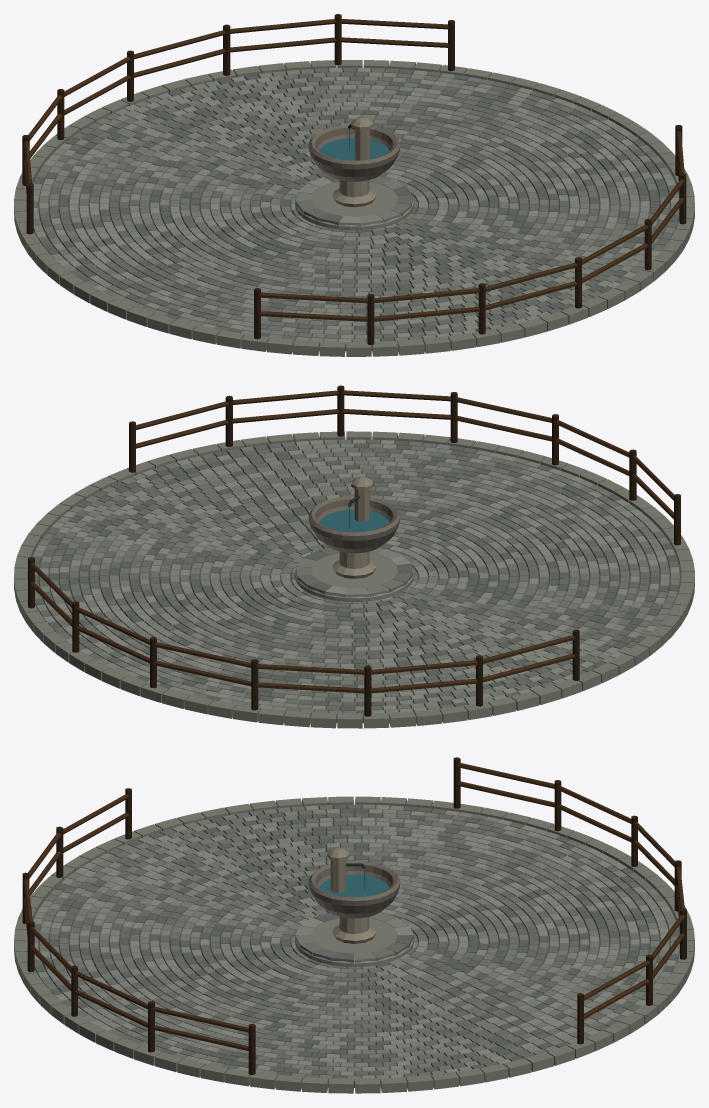
The model's file is Piazzetta_Circolare_Fontana_Alpina.obj.
The picture shows the model from 3 angles, top to bottom: view 1: azimuth 30°, elevation 25°; view 2: azimuth 150°, elevation 25°; view 3: azimuth 270°, elevation 25°; orthographic projection.
Parts seen in each view (by area): view 1: Pavimento_Ciottoli, Cordolo_Circolare, Staccionata_2, Staccionata_1, Base_Piazza, Fontana_Vasca, Fontana_Pedana, Fontana_Anello_Pedana, Fontana_Piedistallo, Fontana_Acqua, Fontana_Colonnina; view 2: Pavimento_Ciottoli, Cordolo_Circolare, Staccionata_2, Staccionata_1, Base_Piazza, Fontana_Vasca, Fontana_Pedana, Fontana_Anello_Pedana, Fontana_Acqua, Fontana_Piedistallo, Fontana_Colonnina; view 3: Pavimento_Ciottoli, Cordolo_Circolare, Staccionata_1, Staccionata_2, Base_Piazza, Fontana_Vasca, Fontana_Pedana, Fontana_Anello_Pedana, Fontana_Acqua, Fontana_Piedistallo, Fontana_Colonnina.
Part boxes in pixels (<box>): Pavimento_Ciottoli: <box>33,67,679,344</box>; Cordolo_Circolare: <box>14,60,694,356</box>; Staccionata_2: <box>22,14,454,234</box>; Staccionata_1: <box>254,125,686,344</box>; Base_Piazza: <box>32,68,679,351</box>; Fontana_Vasca: <box>308,124,400,181</box>; Fontana_Pedana: <box>295,178,413,231</box>; Fontana_Anello_Pedana: <box>296,176,412,225</box>; Fontana_Piedistallo: <box>332,180,376,207</box>; Fontana_Acqua: <box>319,138,389,160</box>; Fontana_Colonnina: <box>351,116,373,160</box>; Pavimento_Ciottoli: <box>33,439,679,715</box>; Cordolo_Circolare: <box>14,431,694,728</box>; Staccionata_2: <box>28,557,579,716</box>; Staccionata_1: <box>129,385,680,545</box>; Base_Piazza: <box>27,440,681,722</box>; Fontana_Vasca: <box>308,496,400,553</box>; Fontana_Pedana: <box>295,550,413,603</box>; Fontana_Anello_Pedana: <box>296,547,412,597</box>; Fontana_Acqua: <box>319,509,389,532</box>; Fontana_Piedistallo: <box>332,551,376,578</box>; Fontana_Colonnina: <box>351,476,373,521</box>; Pavimento_Ciottoli: <box>33,804,679,1080</box>; Cordolo_Circolare: <box>14,796,694,1093</box>; Staccionata_1: <box>22,788,255,1074</box>; Staccionata_2: <box>453,757,686,1044</box>; Base_Piazza: <box>32,805,679,1087</box>; Fontana_Vasca: <box>308,861,400,918</box>; Fontana_Pedana: <box>295,915,413,968</box>; Fontana_Anello_Pedana: <box>295,912,413,962</box>; Fontana_Acqua: <box>319,874,389,897</box>; Fontana_Piedistallo: <box>332,917,376,943</box>; Fontana_Colonnina: <box>327,847,349,892</box>.
Size of the model in its own units: 12 by 1.96 by 12.
